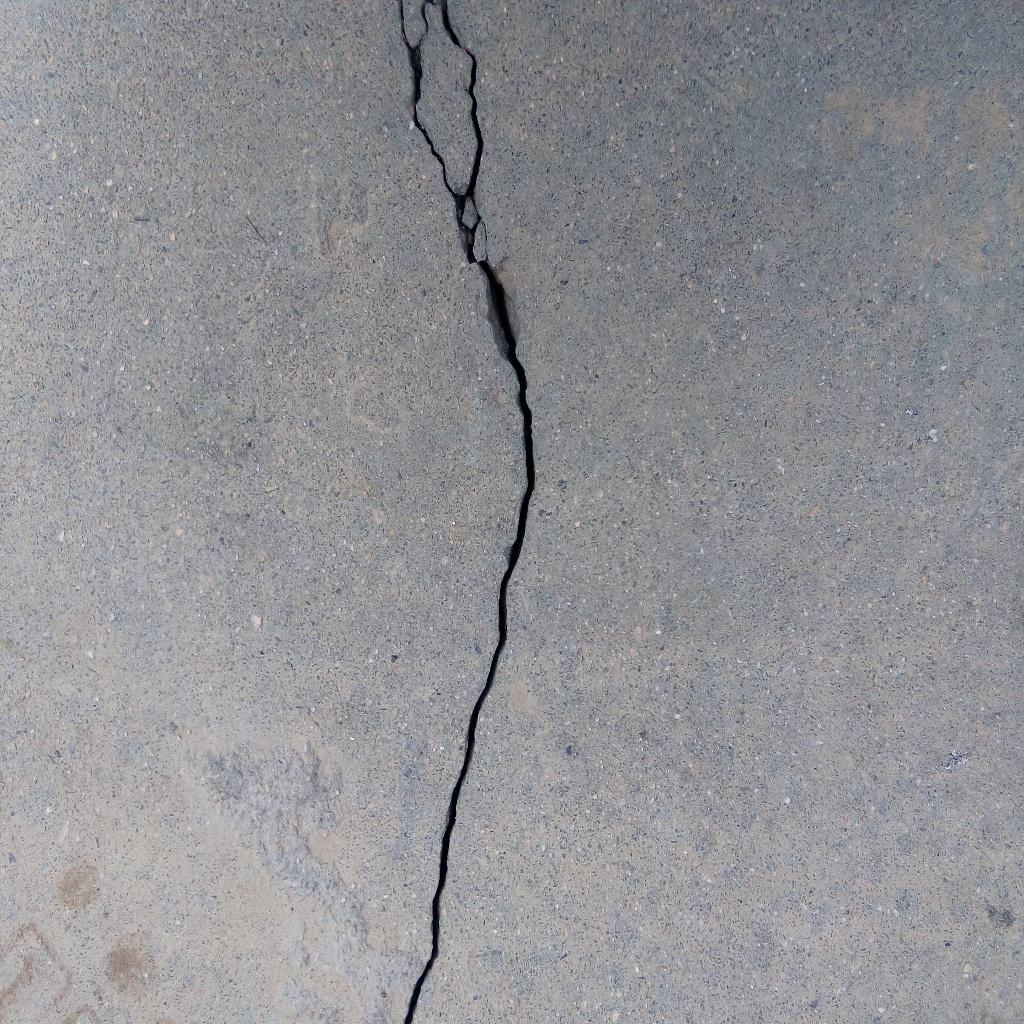Crack: (401, 1, 536, 1024)
